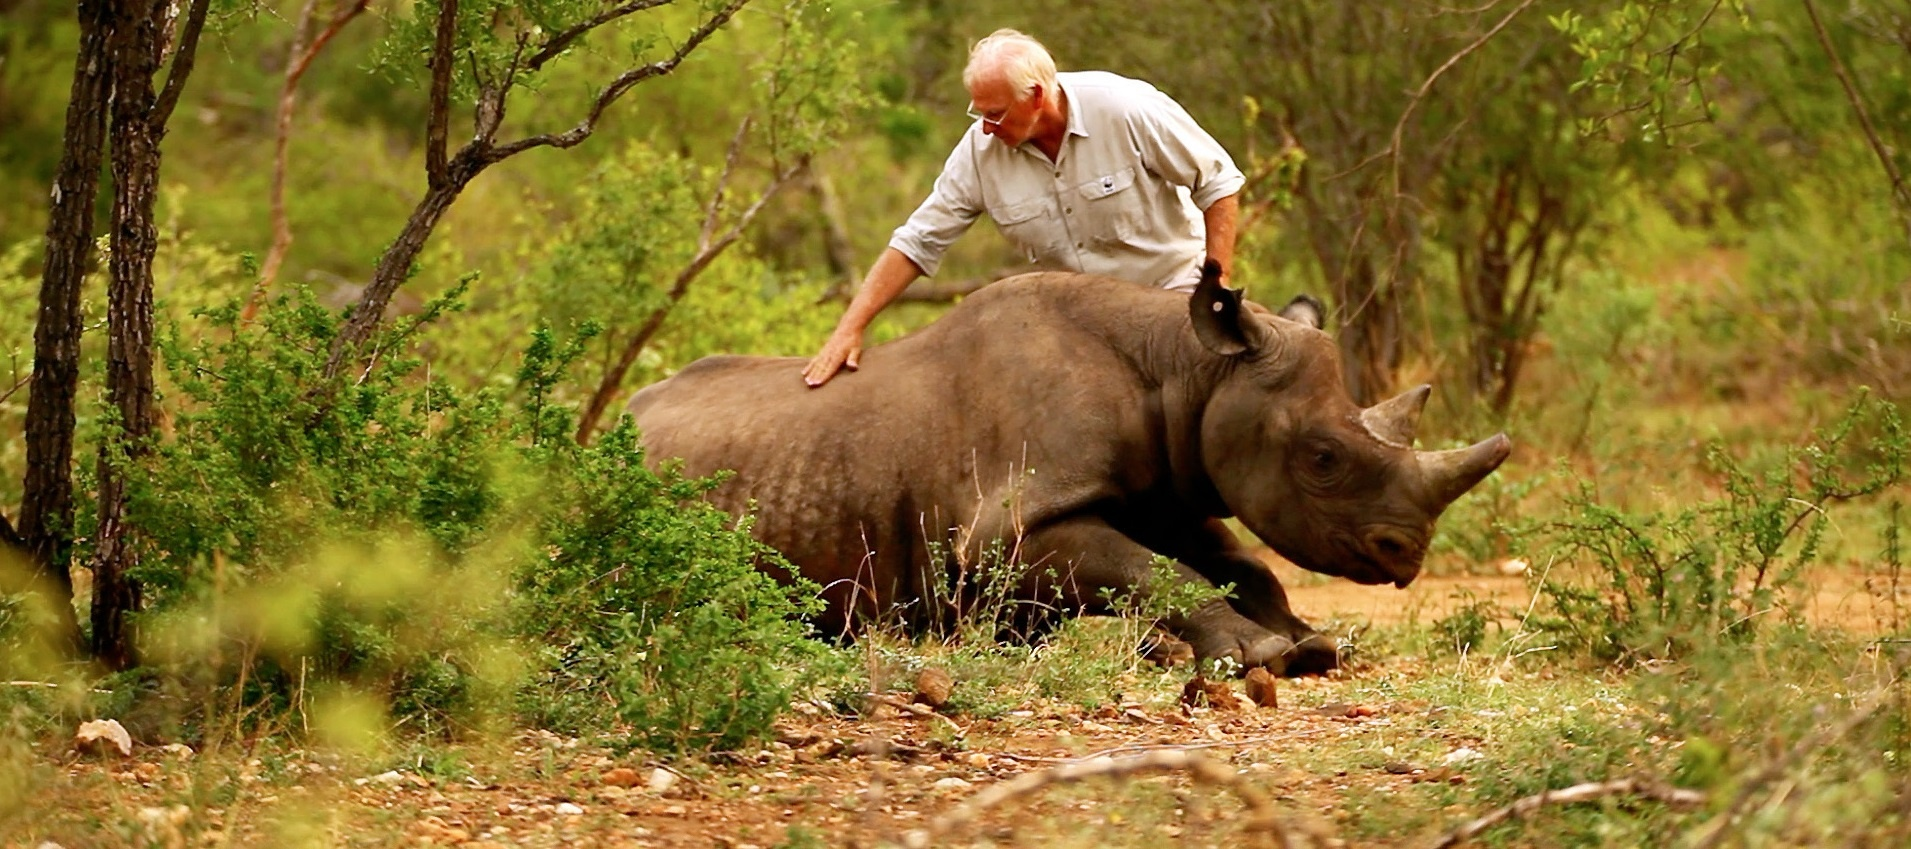rhino: (1060, 477, 1911, 849)
